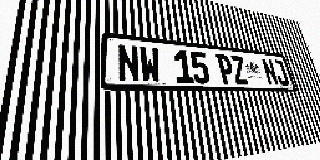1: (172, 49, 194, 84)
5: (190, 51, 211, 84)
J: (272, 59, 290, 86)
N: (117, 44, 141, 83), (261, 58, 279, 86)
P: (215, 54, 236, 85)
W: (139, 46, 162, 83)
Z: (229, 55, 249, 85)
